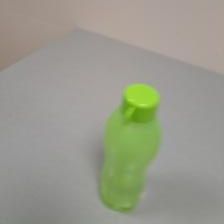bottle: (96, 81, 162, 211)
